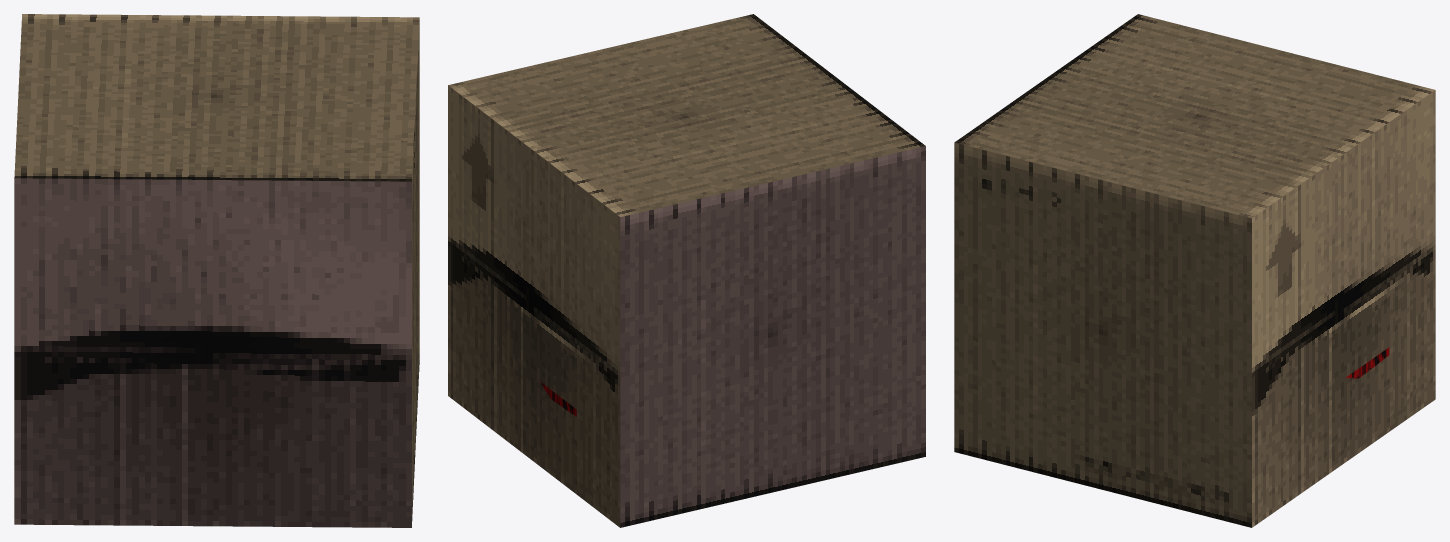
The model's file is primary_128.glb.
3 renders of one model, left to right at view 1: azimuth 30°, elevation 25°; view 2: azimuth 150°, elevation 25°; view 3: azimuth 270°, elevation 25°, orthographic. The views are drawn at different scales.
Visible parts, largest first — view 1: Object; view 2: Object; view 3: Object.
Boxes of the visible parts, x1,y1,x2,y2 form: Object: [14, 14, 419, 527]; Object: [448, 14, 925, 527]; Object: [954, 14, 1435, 527].
Size of the model in its own units: 1.52 by 1.07 by 1.51.
7 materials, 7 textured.
